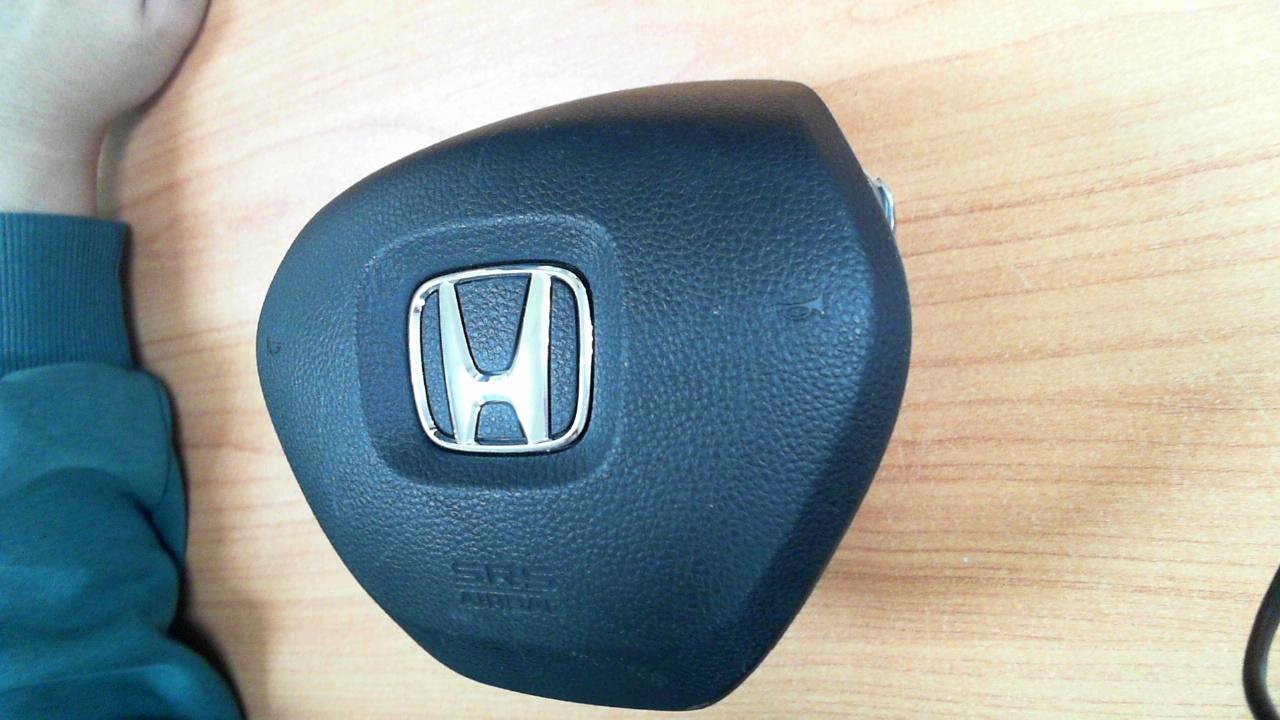Airbag: (254, 77, 914, 713)
Honda: (408, 265, 596, 454)
